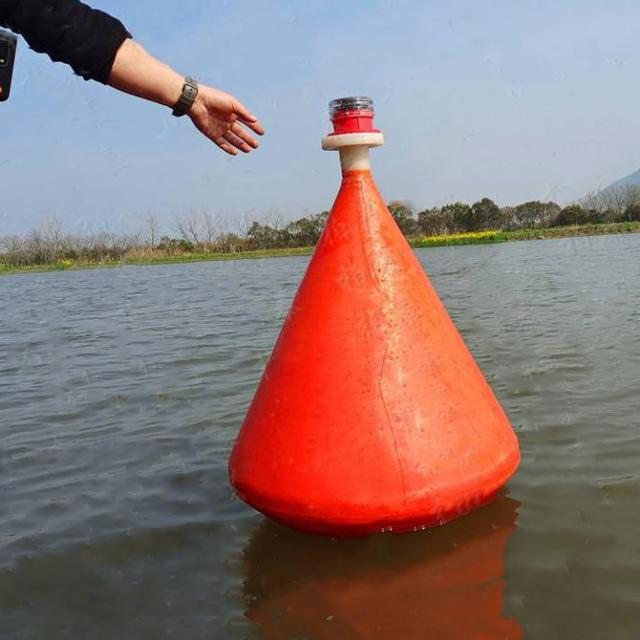buoy: (229, 95, 532, 538)
